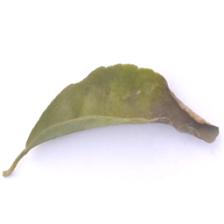black spot: (138, 74, 224, 148)
